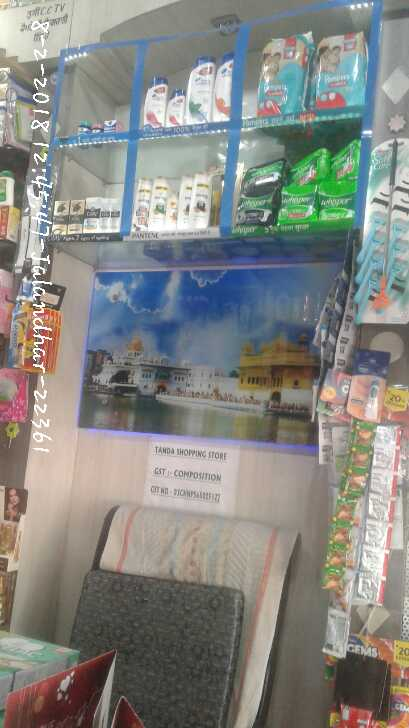venus: (354, 144, 409, 326)
